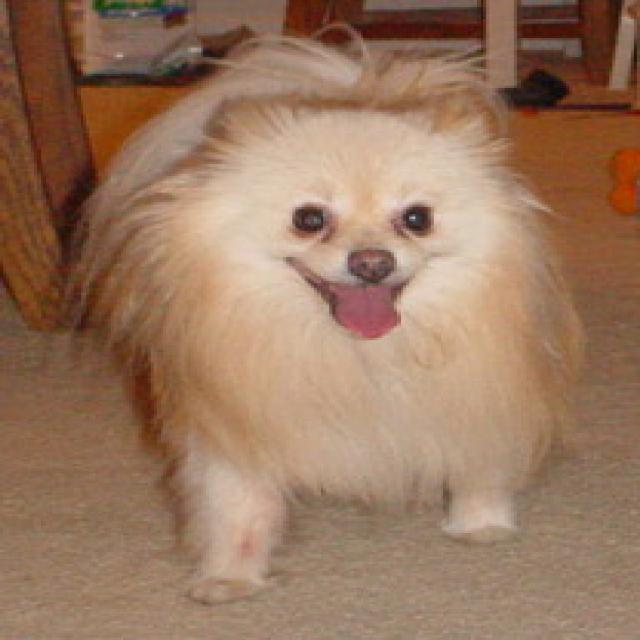dog-pomeranian: (83, 52, 560, 607)
